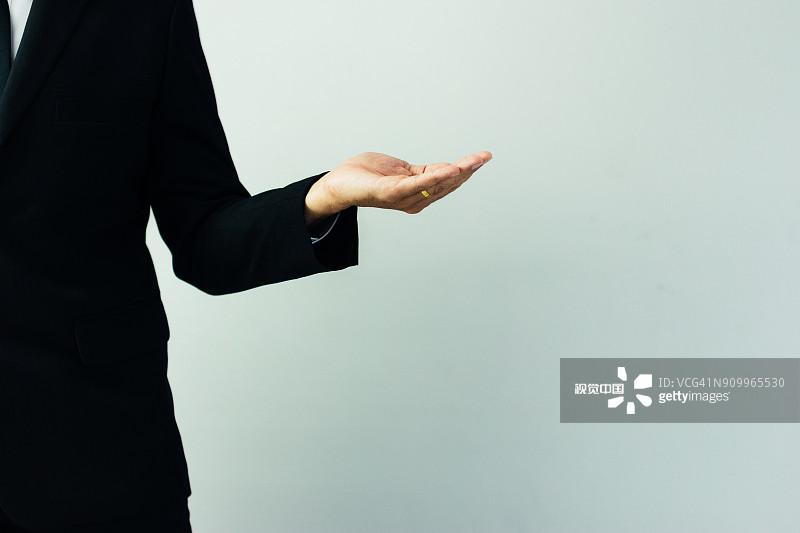no-phone: (313, 116, 504, 238)
